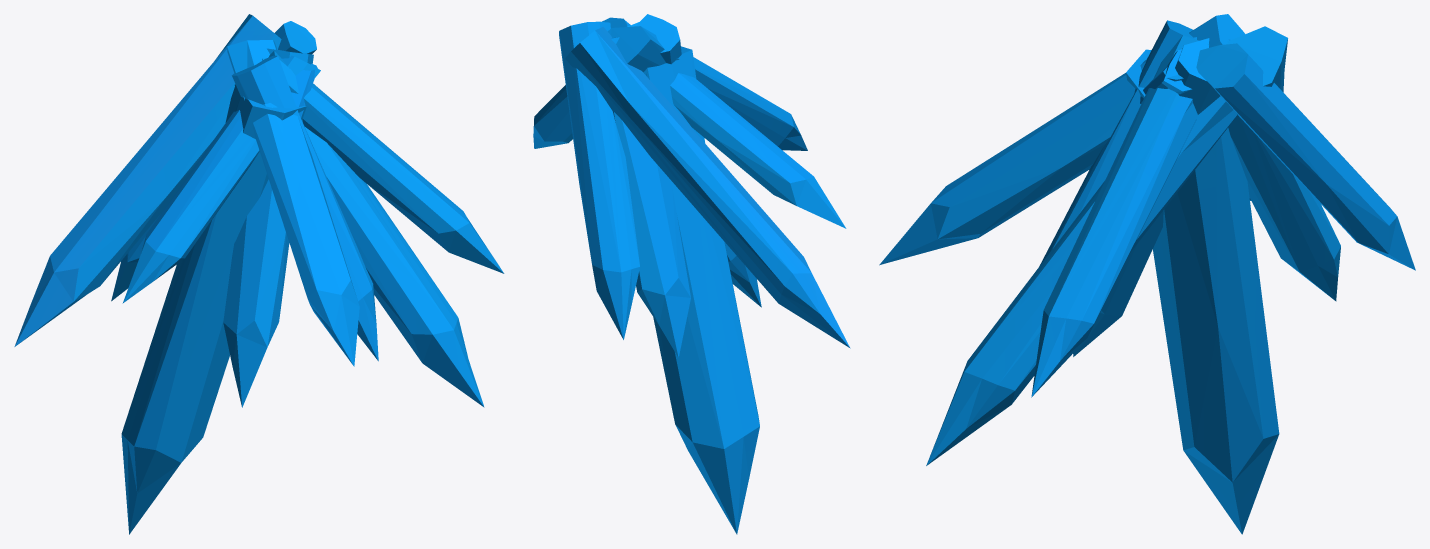
The model's file is sp_crystal01.glb.
3 views of the same model, side by side, from view 1: azimuth 30°, elevation 25°; view 2: azimuth 150°, elevation 25°; view 3: azimuth 270°, elevation 25° (orthographic). The views are drawn at different scales.
Parts seen in each view (by area): view 1: SP_Crystal01; view 2: SP_Crystal01; view 3: SP_Crystal01.
Part boxes in pixels (left/top/right/bottom): SP_Crystal01: left=14, top=14, right=504, bottom=534; SP_Crystal01: left=533, top=14, right=850, bottom=534; SP_Crystal01: left=879, top=14, right=1415, bottom=534.
Size of the model in its own units: 87.98 by 99.99 by 82.71.
Materials: 1 (1 with a texture image).
